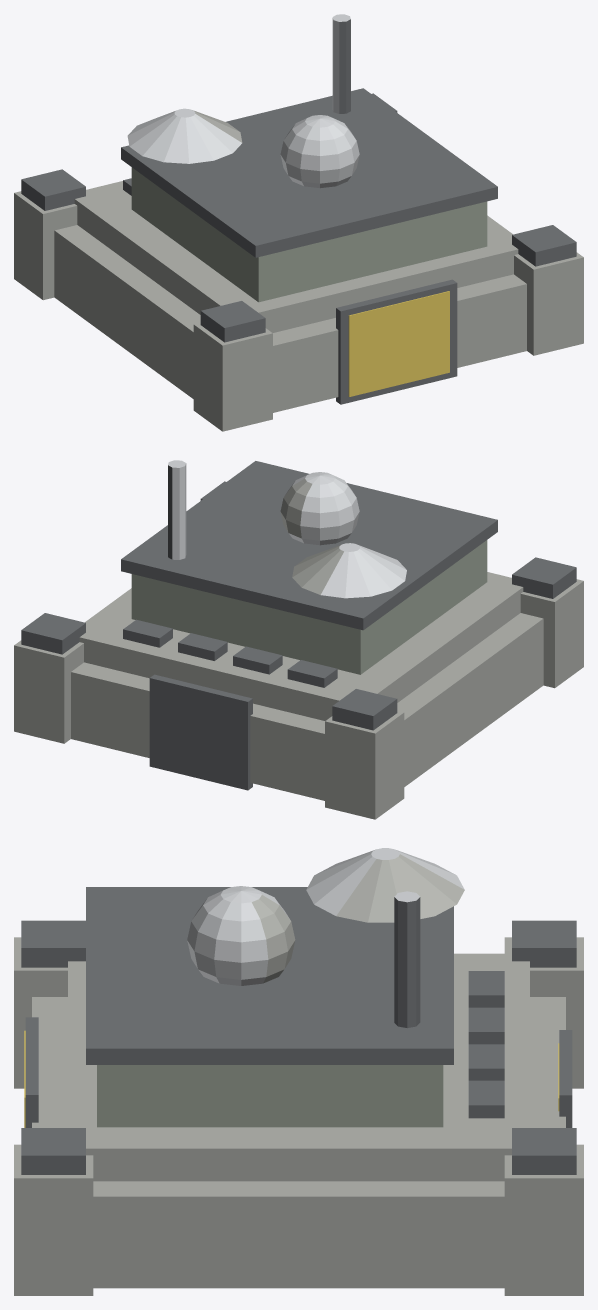
3 renders of one model, top to bottom at view 1: azimuth 30°, elevation 25°; view 2: azimuth 150°, elevation 25°; view 3: azimuth 270°, elevation 25°, orthographic. The views are drawn at different scales.
Visible parts, largest first — view 1: hq; view 2: hq; view 3: hq.
Boxes of the visible parts, <box> form: hq: <box>14,14,583,431</box>; hq: <box>14,460,583,819</box>; hq: <box>14,848,583,1295</box>.
Size of the model in its own units: 7.9 by 5.22 by 7.9.
